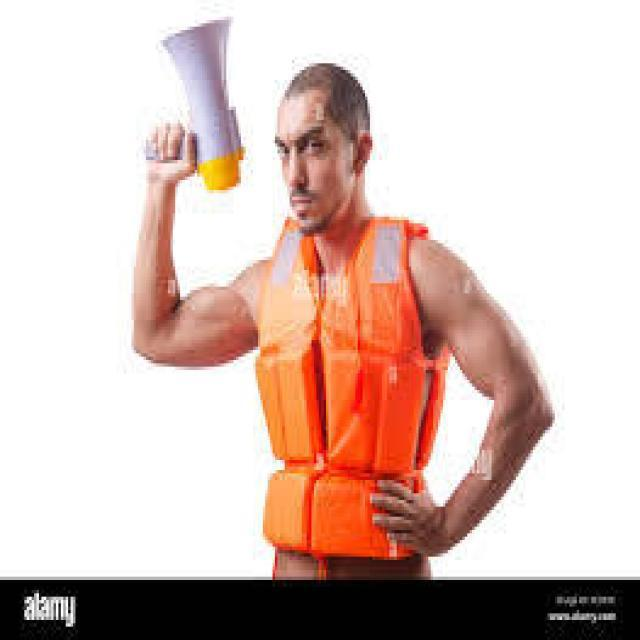safety_helmet: (248, 213, 457, 576)
